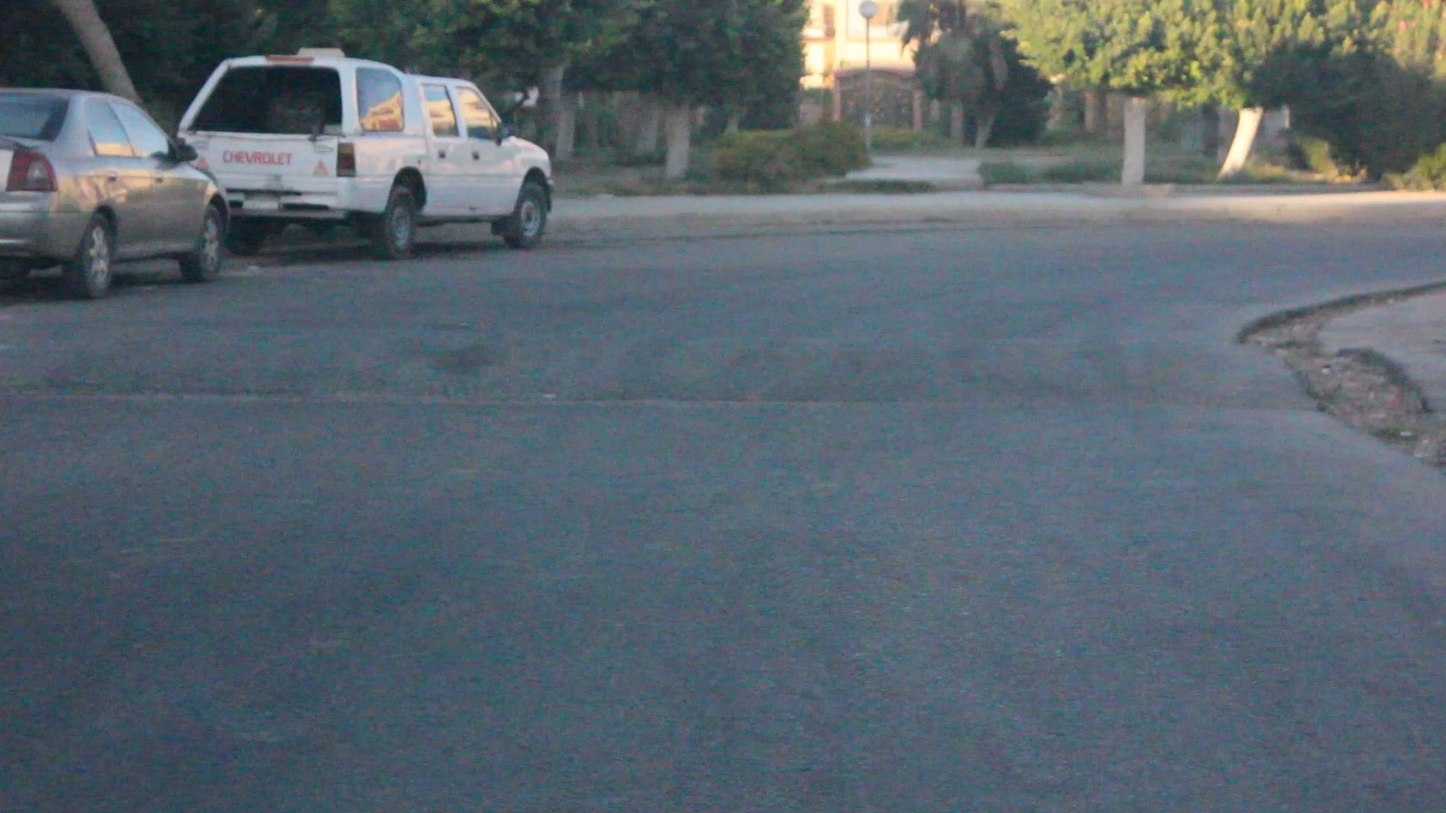Bump: (15, 295, 1337, 429)
